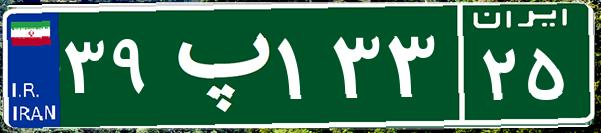1: (273, 28, 330, 110)
2: (475, 38, 525, 113)
3: (385, 28, 445, 110), (330, 28, 385, 110), (57, 26, 110, 107)
5: (525, 38, 570, 115)
9: (110, 28, 158, 105)
پ: (158, 15, 273, 115)
